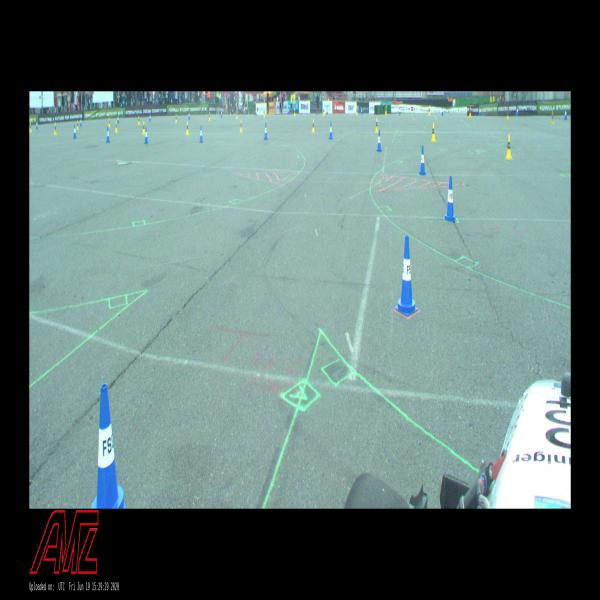blue_cone: (92, 384, 128, 508), (395, 236, 418, 316), (444, 176, 456, 222), (419, 146, 426, 175), (377, 130, 382, 152), (199, 126, 204, 143), (329, 121, 333, 140), (264, 122, 268, 140), (144, 127, 148, 144), (106, 127, 110, 142), (73, 125, 77, 138), (564, 109, 567, 120), (516, 107, 518, 117), (188, 111, 190, 119), (80, 118, 82, 126), (221, 110, 223, 118), (117, 115, 119, 122), (149, 114, 151, 120), (399, 106, 400, 116), (442, 107, 443, 115)
yellow_cone: (505, 134, 512, 160), (431, 122, 436, 142), (142, 120, 146, 134), (375, 118, 378, 132), (186, 121, 189, 135), (551, 110, 554, 123), (312, 120, 315, 132), (115, 120, 118, 132), (54, 123, 57, 135), (76, 120, 79, 130), (240, 120, 242, 132), (469, 107, 471, 117), (428, 106, 430, 116), (30, 122, 32, 132), (356, 106, 358, 116), (209, 112, 211, 121), (175, 114, 177, 123), (236, 110, 238, 119), (385, 105, 387, 114), (138, 116, 140, 125), (108, 118, 110, 127), (294, 107, 296, 116), (507, 111, 509, 119), (323, 108, 325, 116), (264, 110, 265, 118)
